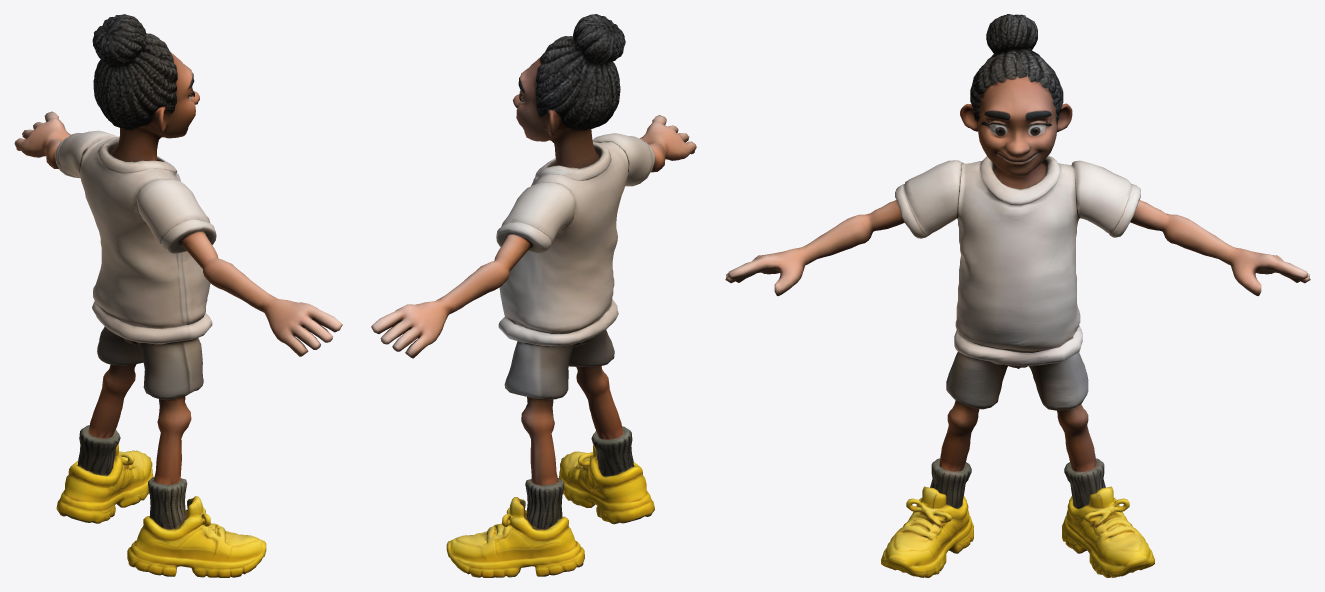
3 renders of one model, left to right at view 1: azimuth 30°, elevation 25°; view 2: azimuth 150°, elevation 25°; view 3: azimuth 270°, elevation 25°, orthographic.
Visible parts, largest first — view 1: tripo_node_5ad5aa9d; view 2: tripo_node_5ad5aa9d; view 3: tripo_node_5ad5aa9d.
Boxes of the visible parts, left/top/right/bottom form: tripo_node_5ad5aa9d: left=14, top=14, right=342, bottom=577; tripo_node_5ad5aa9d: left=371, top=14, right=696, bottom=577; tripo_node_5ad5aa9d: left=725, top=14, right=1310, bottom=577.
Size of the model in its own units: 22.5 by 99.61 by 100.
1 material, 1 textured.
